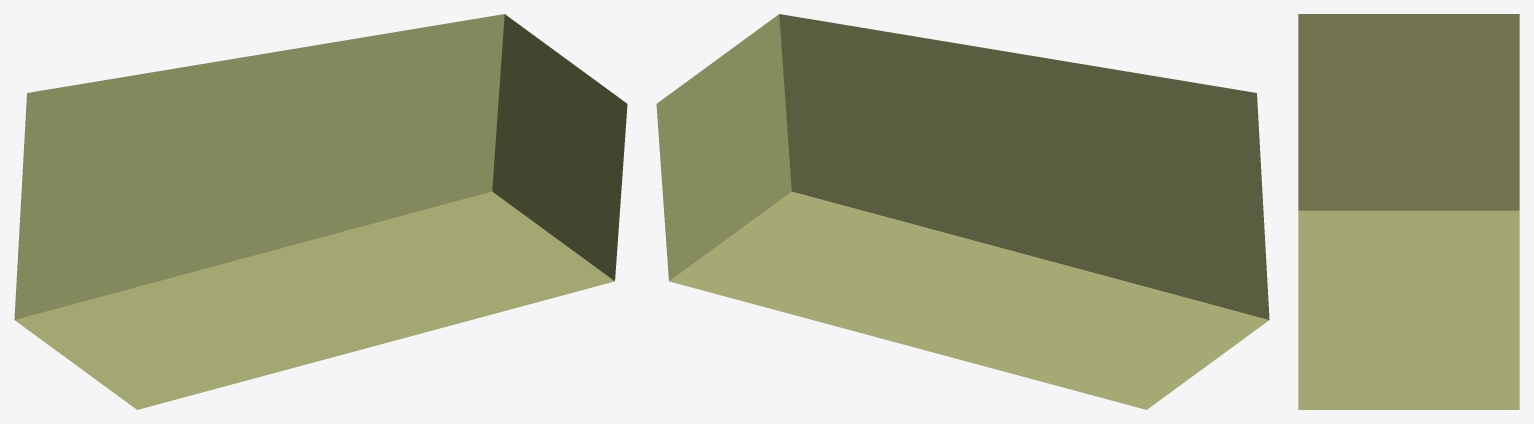
3 views of the same model, side by side, from view 1: azimuth 30°, elevation 25°; view 2: azimuth 150°, elevation 25°; view 3: azimuth 270°, elevation 25° (orthographic). The views are drawn at different scales.
Visible parts, largest first — view 1: 0_1_0_0_0_1_1_3_2_2; view 2: 0_1_0_0_0_1_1_3_2_2; view 3: 0_1_0_0_0_1_1_3_2_2.
Boxes of the visible parts, bbox=[...] form: 0_1_0_0_0_1_1_3_2_2: bbox=[14, 14, 627, 409]; 0_1_0_0_0_1_1_3_2_2: bbox=[656, 14, 1269, 409]; 0_1_0_0_0_1_1_3_2_2: bbox=[1298, 14, 1519, 409].
Size of the model in its own units: 13.82 by 6.04 by 6.
